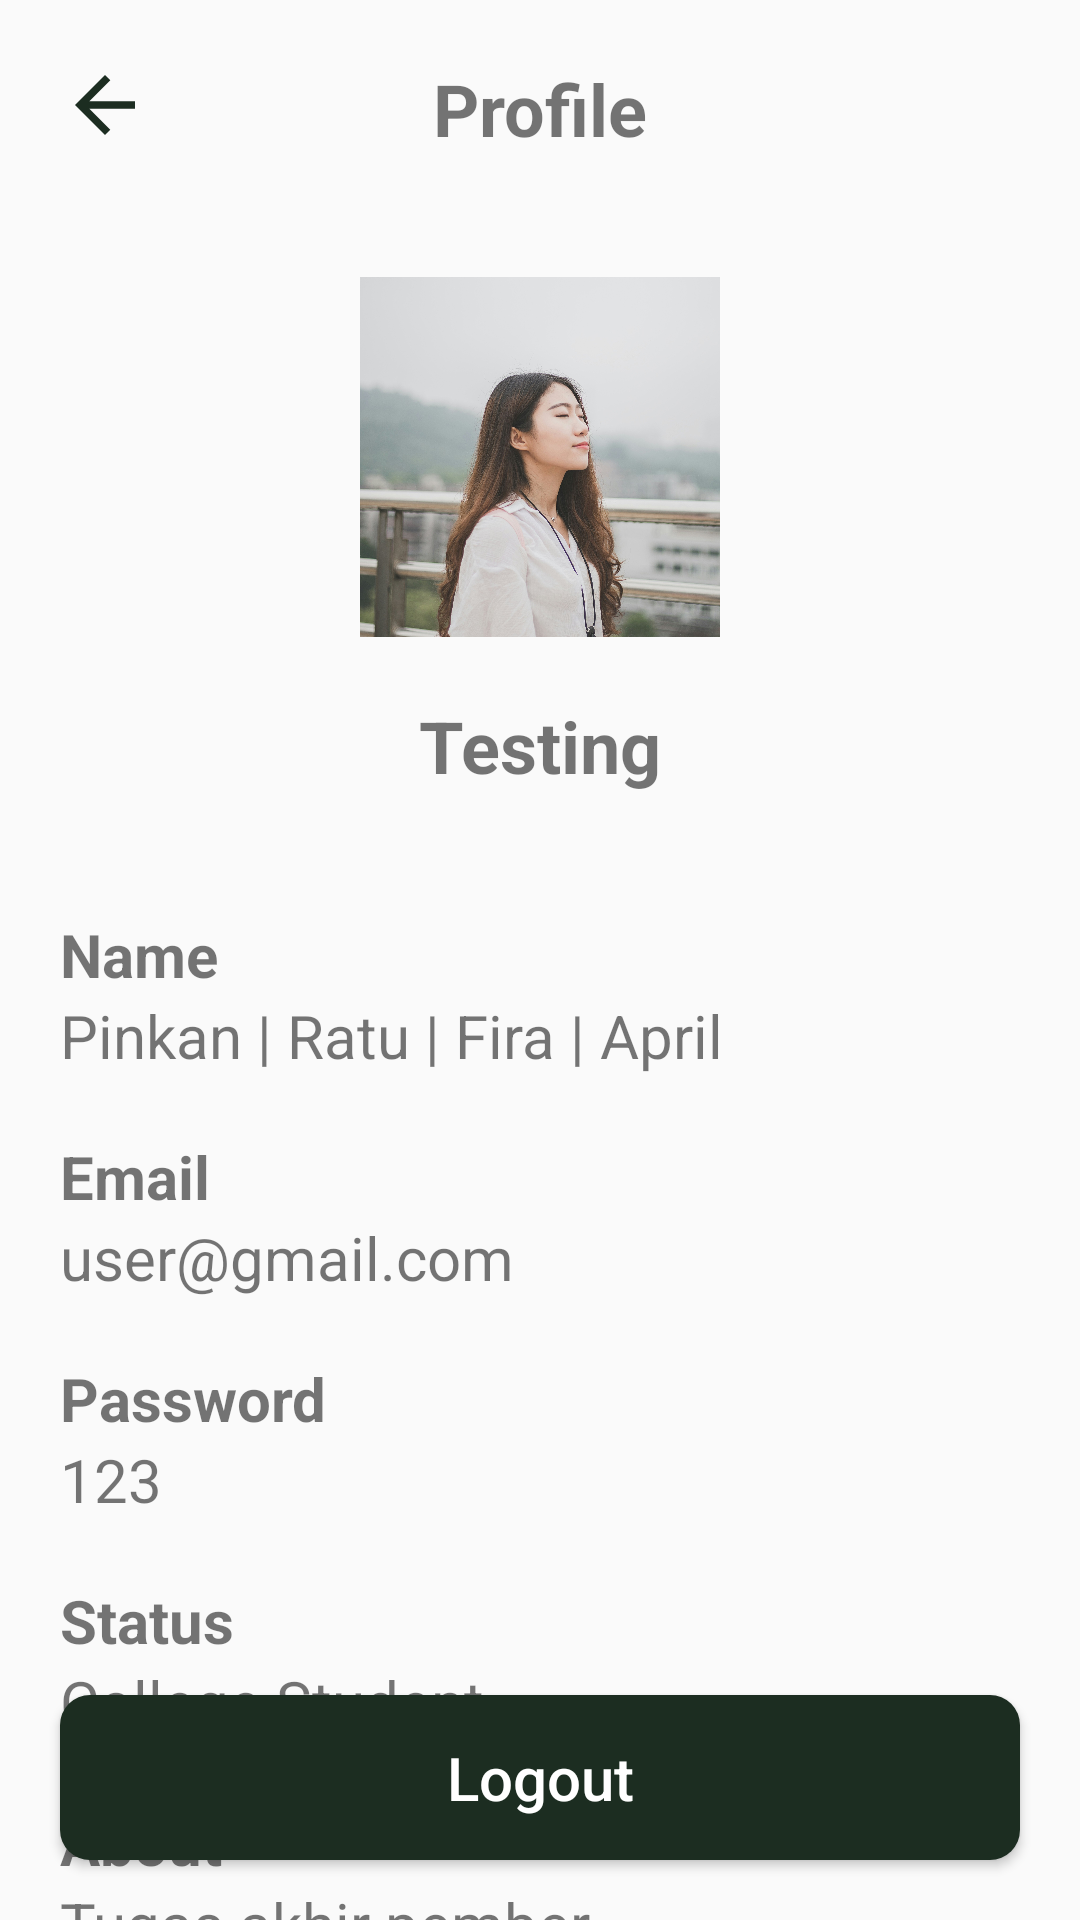

Named icons in this screenshot (1080w x 1920h) and their centers, (x,y):
arrow back: (105,105)
